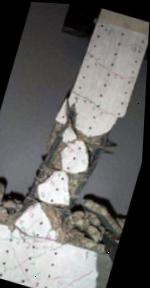spalling: (23, 101, 112, 288)
